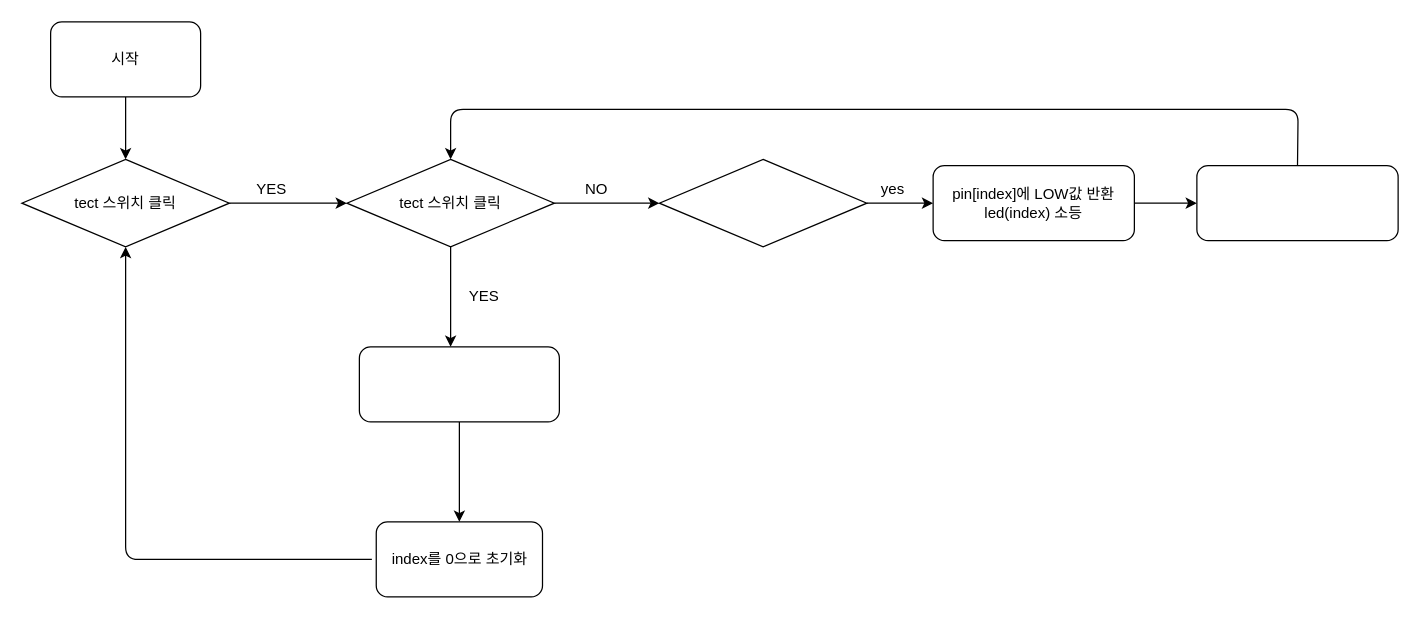
Image size: 1420x619. Some labels were removed from this diagram. The shapes that lost their labels are listed below. From the top down, each one's centre as x and y in pixels, then its label:
the point at 762,202: millis() - pre_time > 200
the point at 1297,202: pin[index++]에 HIGH값 반환 led(index++) 점등
the point at 458,384: pin[index]에 LOW값을 반환 led[index] 소등
